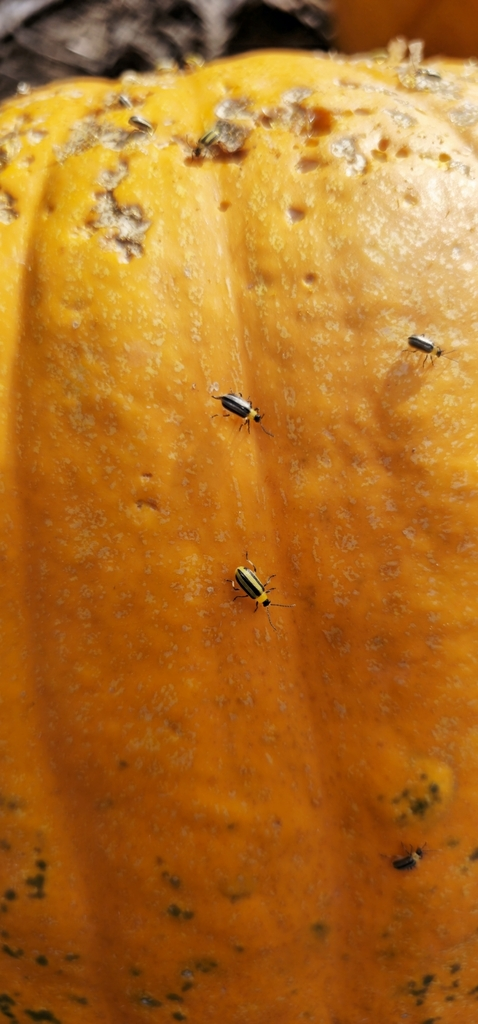potato_beetle: (197, 364, 288, 458), (393, 313, 467, 383)
